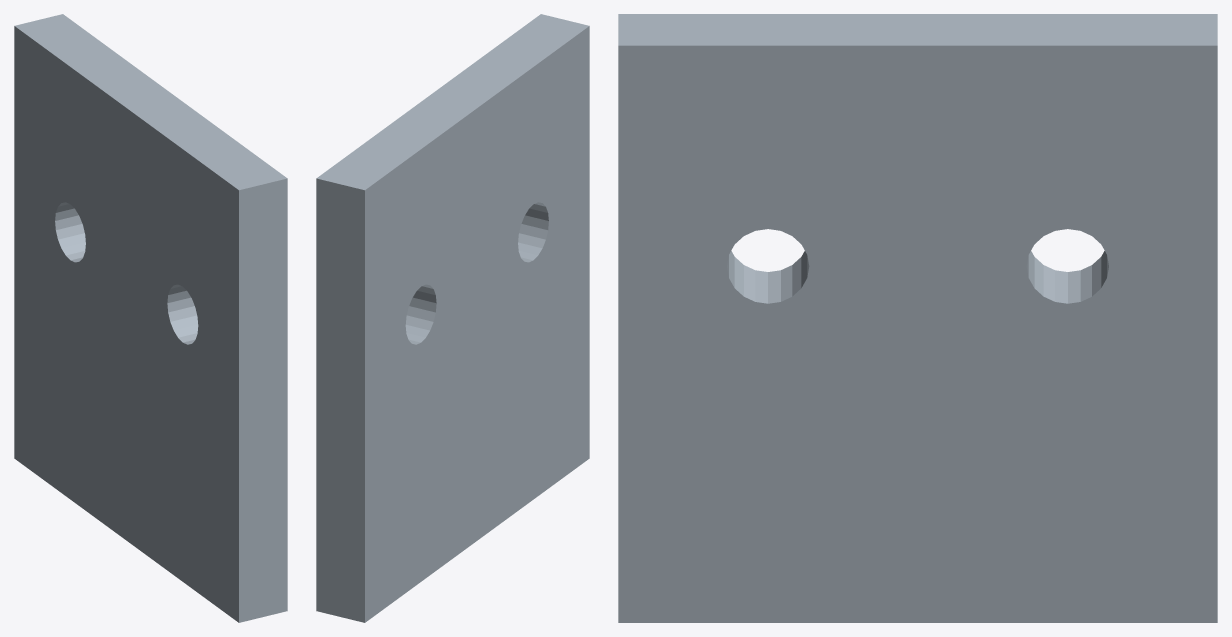
Rendered from shop_s0101002.gltf.
3 renders of one model, left to right at view 1: azimuth 30°, elevation 25°; view 2: azimuth 150°, elevation 25°; view 3: azimuth 270°, elevation 25°, orthographic. The views are drawn at different scales.
Visible parts, largest first — view 1: 100046_PL20*160; view 2: 100046_PL20*160; view 3: 100046_PL20*160.
Boxes of the visible parts, x1,y1,x2,y2 form: 100046_PL20*160: (14,14,287,622); 100046_PL20*160: (316,14,589,622); 100046_PL20*160: (618,14,1217,622).
Size of the model in its own units: 0.02 by 0.17 by 0.16.
